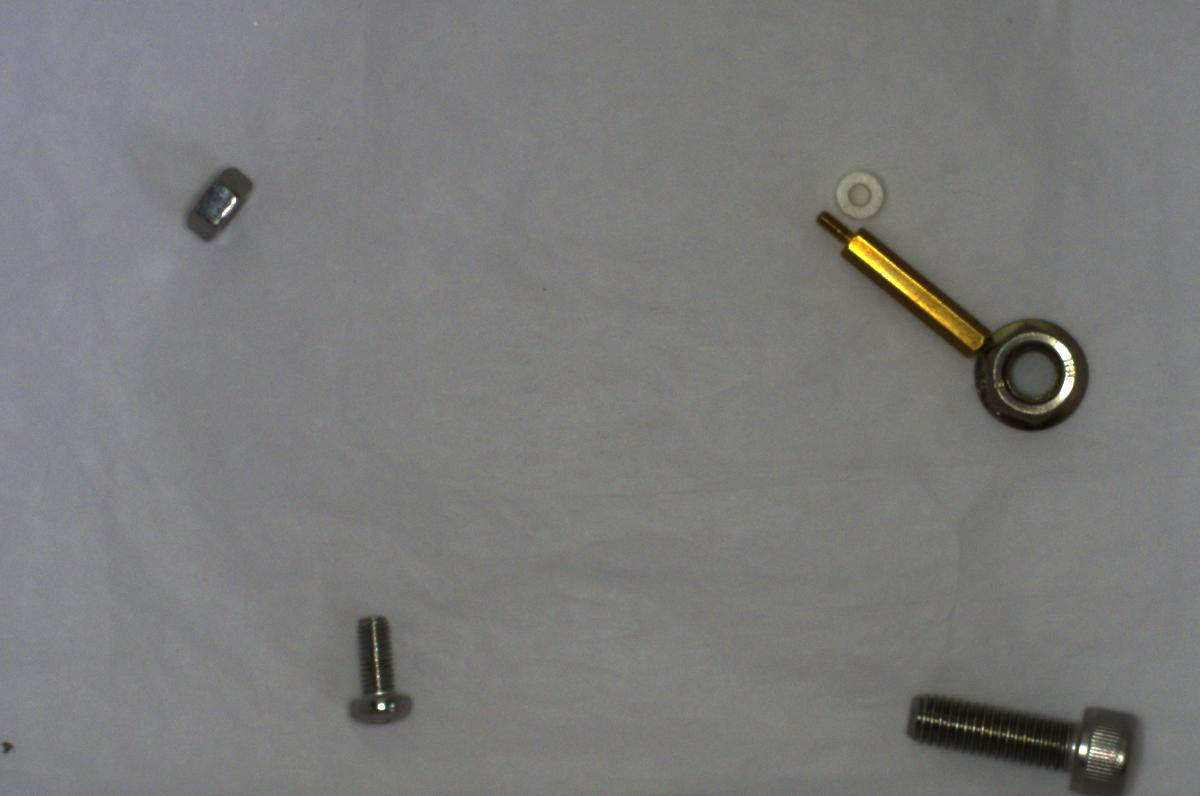Flange nut: (962, 307, 1100, 445)
Hexagon nut: (177, 156, 258, 240)
Hexagon pillar: (808, 206, 988, 361)
Hexagon screw: (887, 679, 1145, 795)
Plastic cushion pillar: (827, 161, 893, 223)
Round head screw: (333, 606, 422, 730)
